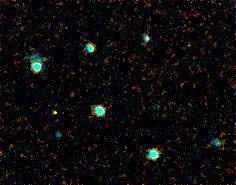star: (39, 99, 69, 129)
